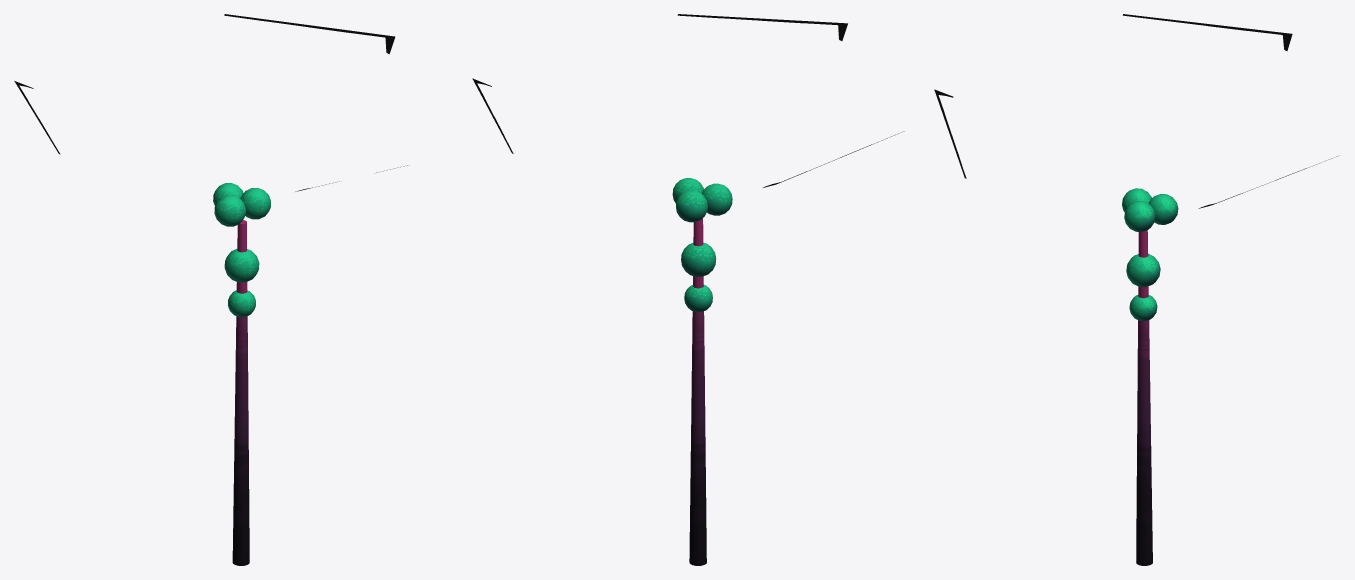
Rendered from m_PlantHigh1.FBX.
The picture shows the model from 3 angles, left to right: view 1: azimuth 30°, elevation 25°; view 2: azimuth 150°, elevation 25°; view 3: azimuth 270°, elevation 25°; orthographic projection. The views are drawn at different scales.
Parts seen in each view (by area): view 1: plant high 1; view 2: plant high 1; view 3: plant high 1.
Boxes of the visible parts, bbox=[...] form: plant high 1: bbox=[14, 14, 407, 565]; plant high 1: bbox=[472, 14, 904, 565]; plant high 1: bbox=[934, 14, 1337, 565].
Size of the model in its own units: 8.62 by 10 by 8.09.
